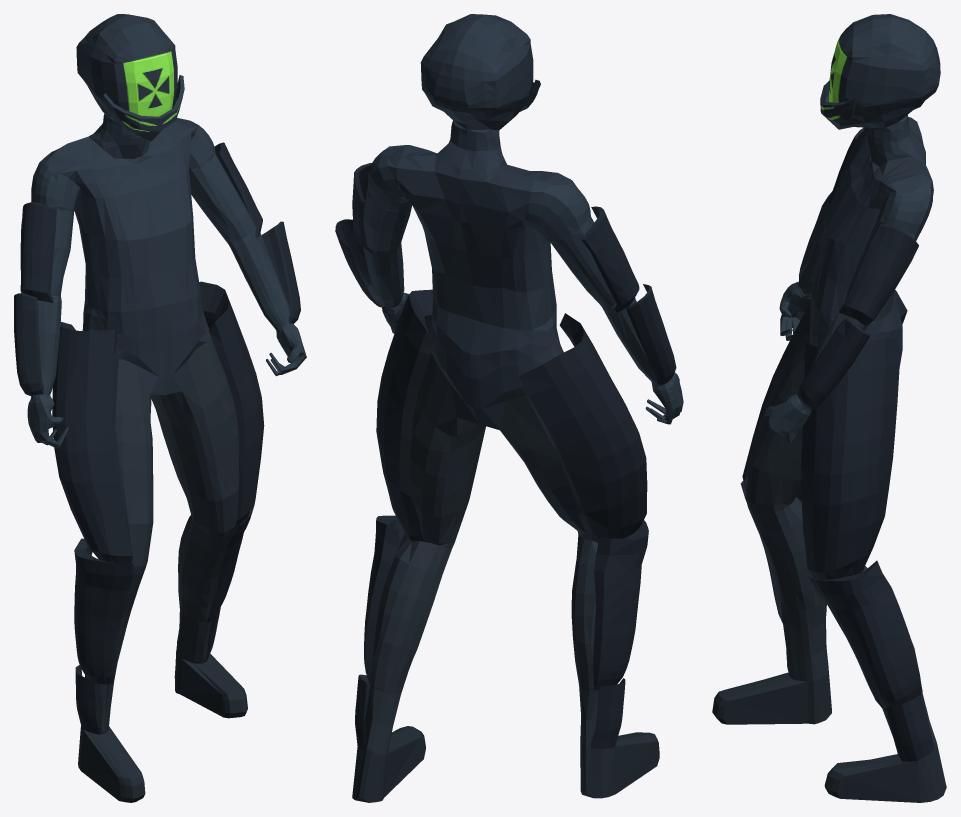
Rendered from Bastion_Stun_000014.obj.
The picture shows the model from 3 angles, left to right: view 1: azimuth 30°, elevation 25°; view 2: azimuth 150°, elevation 25°; view 3: azimuth 270°, elevation 25°; orthographic projection. The views are drawn at different scales.
Parts seen in each view (by area): view 1: Cube.002; view 2: Cube.002; view 3: Cube.002.
Boxes of the visible parts, x1,y1,x2,y2 form: Cube.002: (14,14,306,802); Cube.002: (335,14,683,802); Cube.002: (712,14,946,802).
Bounding box in the file's own units: 1.59 × 3.78 × 1.09.
